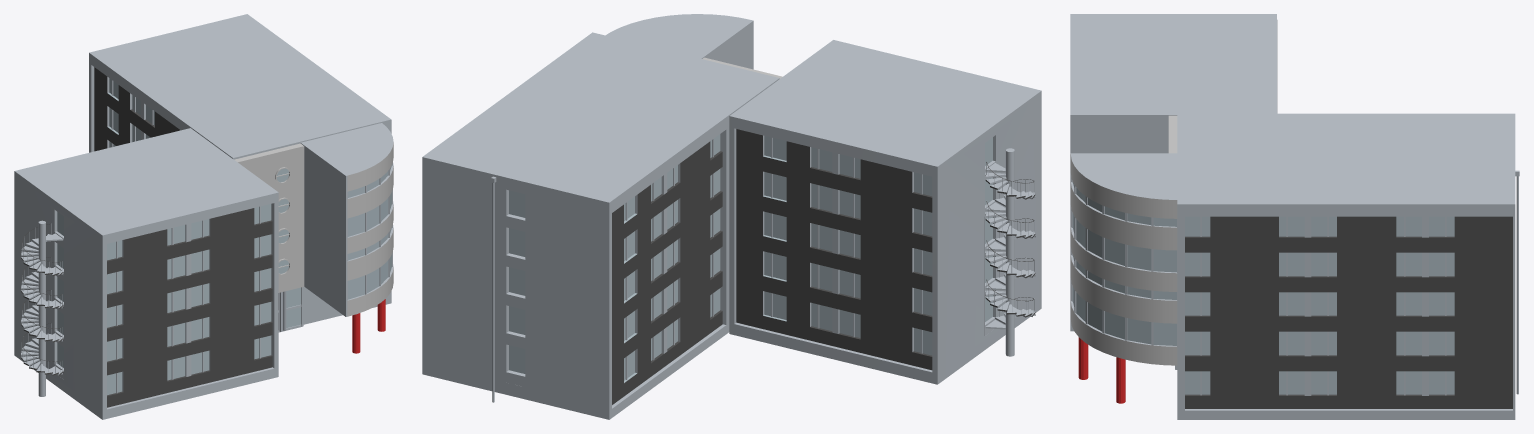
Rendered from ExportedBlenderFBXFile.fbx.
3 views of the same model, side by side, from view 1: azimuth 30°, elevation 25°; view 2: azimuth 150°, elevation 25°; view 3: azimuth 270°, elevation 25° (orthographic). The views are drawn at different scales.
Visible parts, largest first — view 1: Cube_000, Cube_002, Cube_003, Cube_006, Cube_007, Cube_001, Cube_005, Cube_004; view 2: Cube_000, Cube_002, Cube_003, Cube_005; view 3: Cube_000, Cube_002, Cube_003, Cube_006, Cube_001.
Boxes of the visible parts, x1=… form: Cube_000: x1=14, y1=14, x2=393, y2=419; Cube_002: x1=94, y1=67, x2=272, y2=407; Cube_003: x1=57, y1=78, x2=391, y2=395; Cube_006: x1=347, y1=142, x2=393, y2=316; Cube_007: x1=234, y1=143, x2=304, y2=292; Cube_001: x1=352, y1=299, x2=385, y2=353; Cube_005: x1=21, y1=223, x2=63, y2=375; Cube_004: x1=275, y1=167, x2=290, y2=275; Cube_000: x1=422, y1=14, x2=1041, y2=419; Cube_002: x1=612, y1=129, x2=932, y2=404; Cube_003: x1=509, y1=134, x2=992, y2=382; Cube_005: x1=985, y1=162, x2=1035, y2=317; Cube_000: x1=1070, y1=14, x2=1519, y2=419; Cube_002: x1=1185, y1=216, x2=1512, y2=408; Cube_003: x1=1072, y1=181, x2=1454, y2=394; Cube_006: x1=1070, y1=154, x2=1177, y2=365; Cube_001: x1=1078, y1=337, x2=1125, y2=403.
Bounding box in the file's own units: 12.6 × 6.23 × 11.29.
